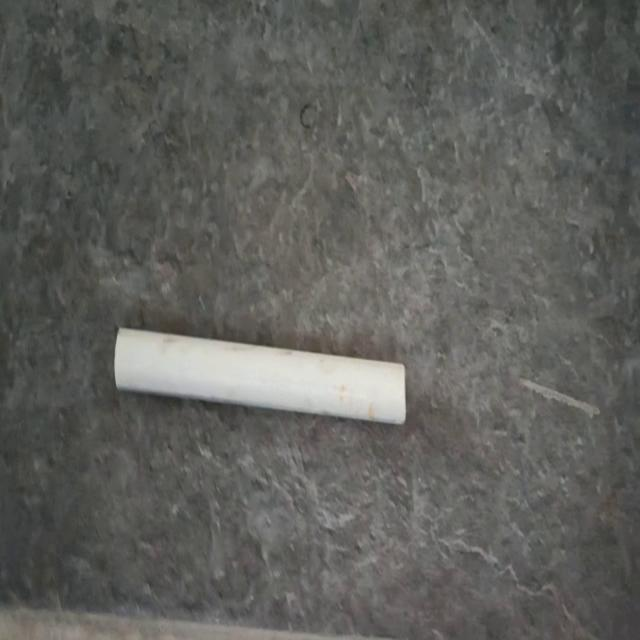Cube: (113, 324, 407, 426)
